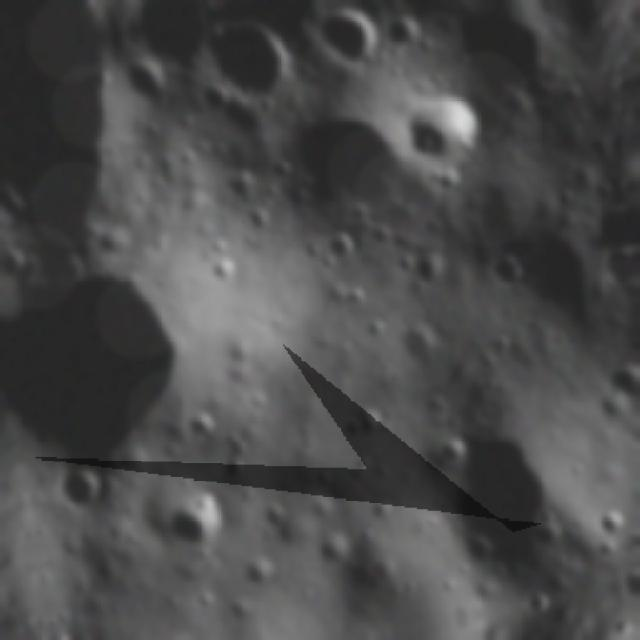crater: (372, 84, 492, 173), (201, 22, 302, 103), (319, 3, 390, 72), (586, 203, 640, 291), (165, 489, 232, 556), (57, 456, 111, 519), (476, 246, 536, 300), (394, 321, 444, 368), (438, 429, 488, 474), (320, 224, 360, 268), (606, 364, 640, 398)
